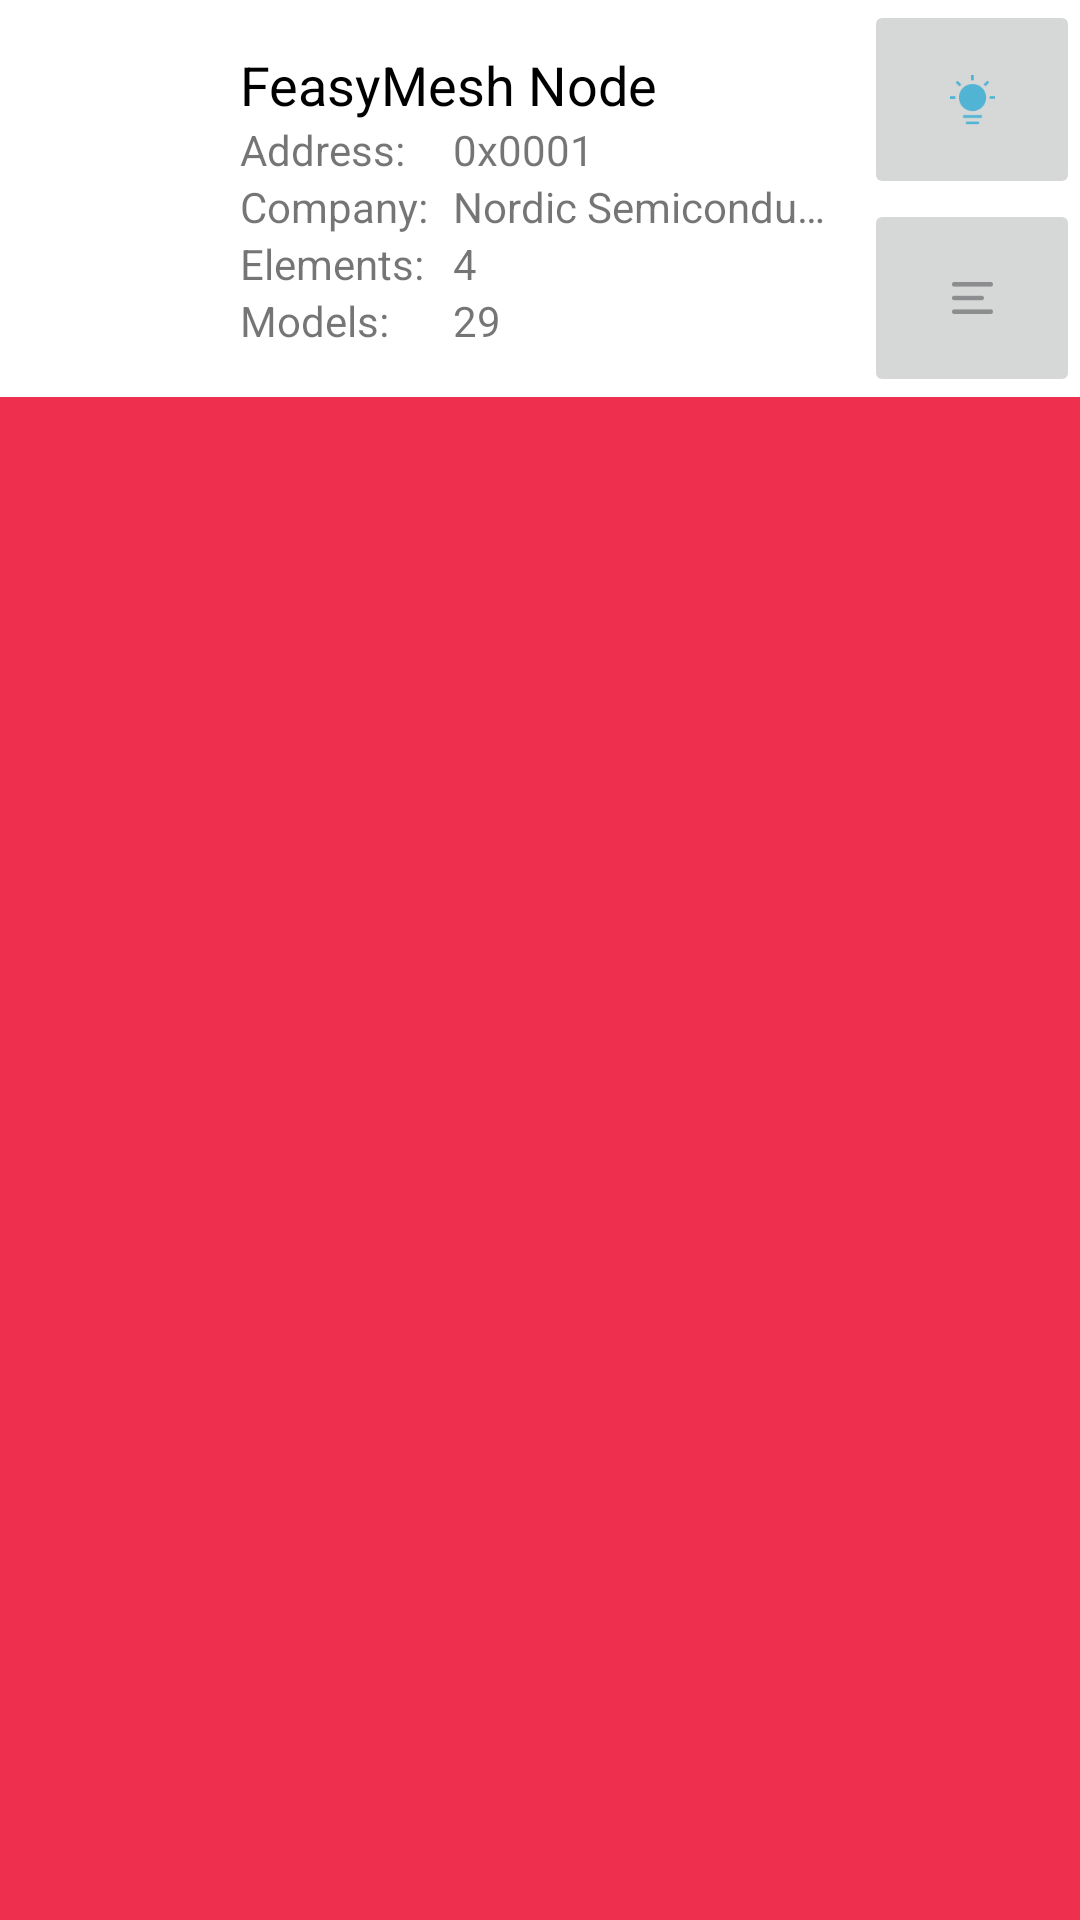

Point at icon controls on the screen. Image size 1080px x 1920px, points as (x,y).
list: (972,298)
